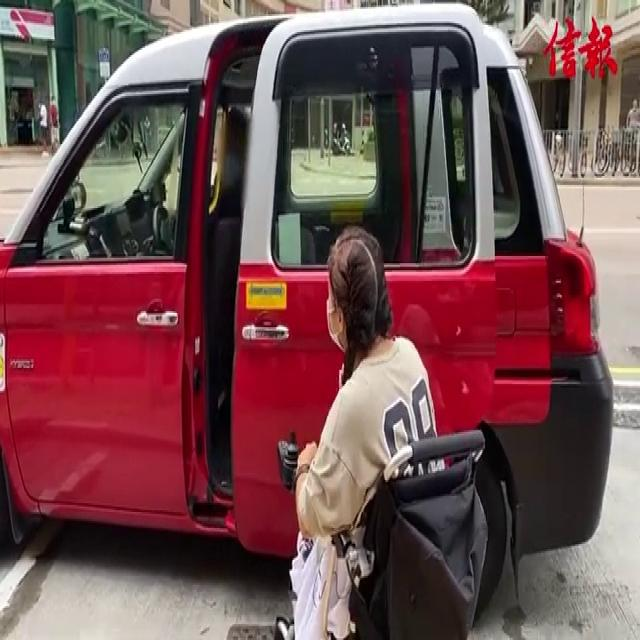wheelchairs: (261, 376, 527, 640)
